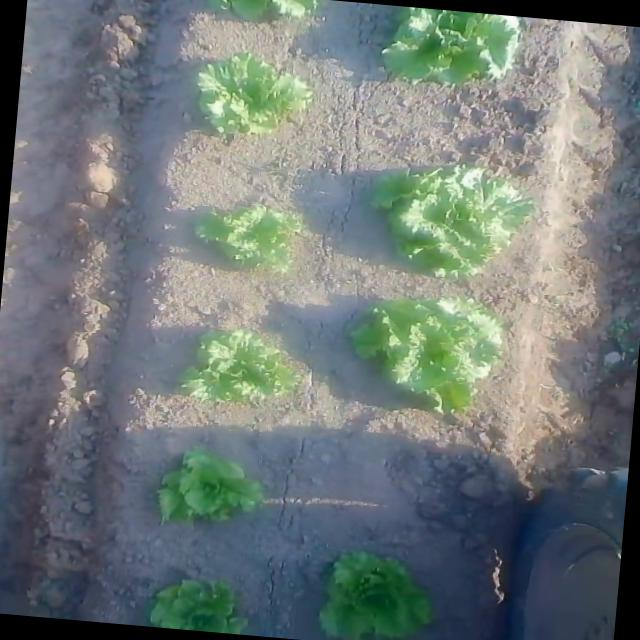Lettuce-Ready-to-Harvest: (364, 157, 538, 284), (344, 286, 510, 419), (187, 47, 316, 140), (176, 322, 306, 410), (152, 442, 268, 532), (190, 196, 303, 273)
